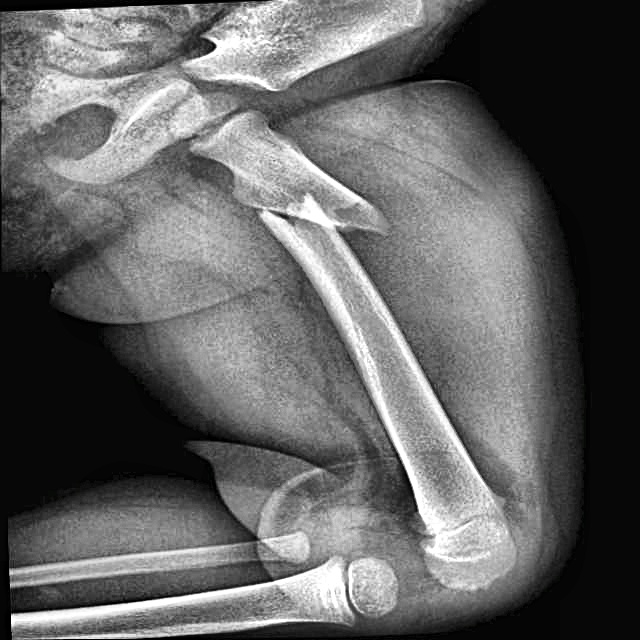Oblique: (229, 173, 407, 262)
